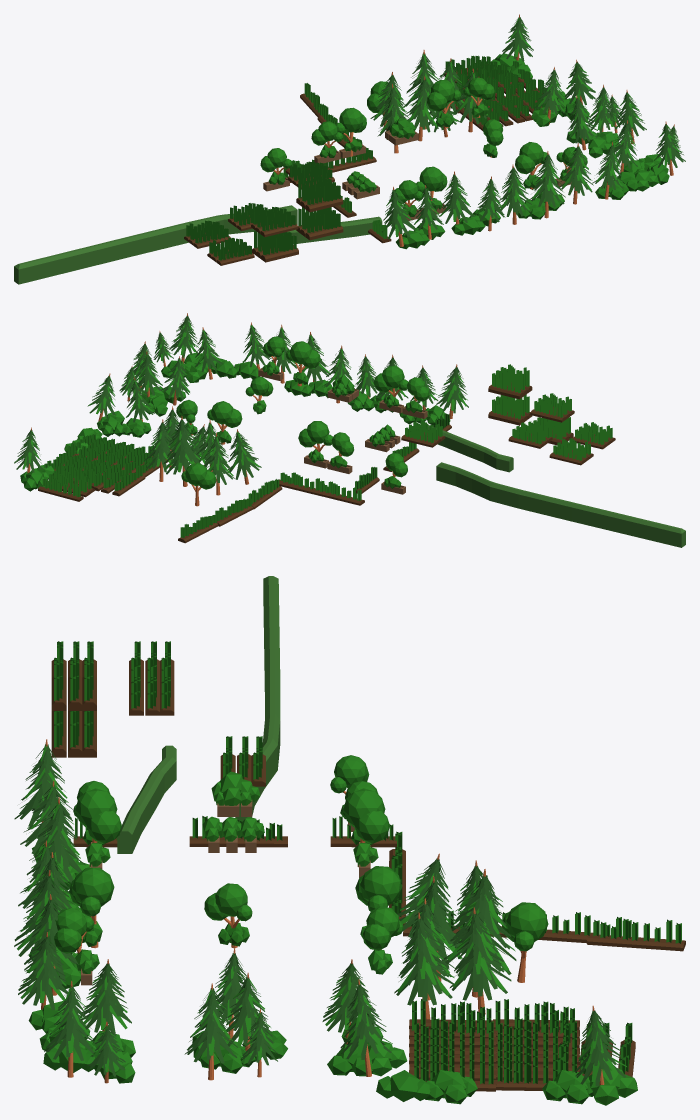
Rendered from solution_20_greenery.fbx.
The picture shows the model from 3 angles, top to bottom: view 1: azimuth 30°, elevation 25°; view 2: azimuth 150°, elevation 25°; view 3: azimuth 270°, elevation 25°; orthographic projection. The views are drawn at different scales.
Parts seen in each view (by area): view 1: solution_20_greenery; view 2: solution_20_greenery; view 3: solution_20_greenery.
Boxes of the visible parts, x1,y1,x2,y2 form: solution_20_greenery: [14, 14, 685, 284]; solution_20_greenery: [14, 313, 685, 547]; solution_20_greenery: [14, 576, 685, 1105].
Size of the model in its own units: 11040 by 1675 by 6272.
